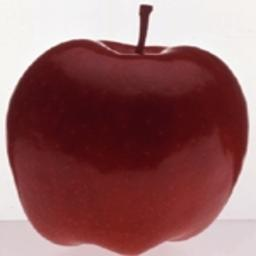apple: (5, 14, 249, 253)
